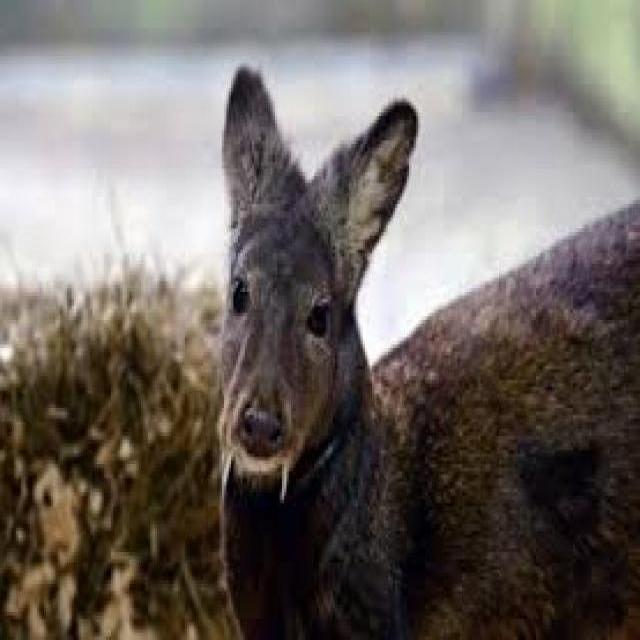deer: (198, 21, 640, 638)
